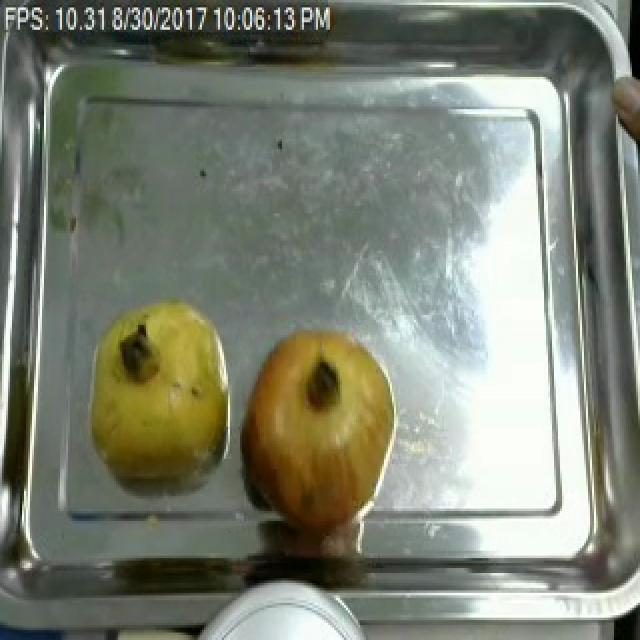fruit: (238, 315, 406, 563), (78, 290, 236, 501), (608, 62, 640, 164)
